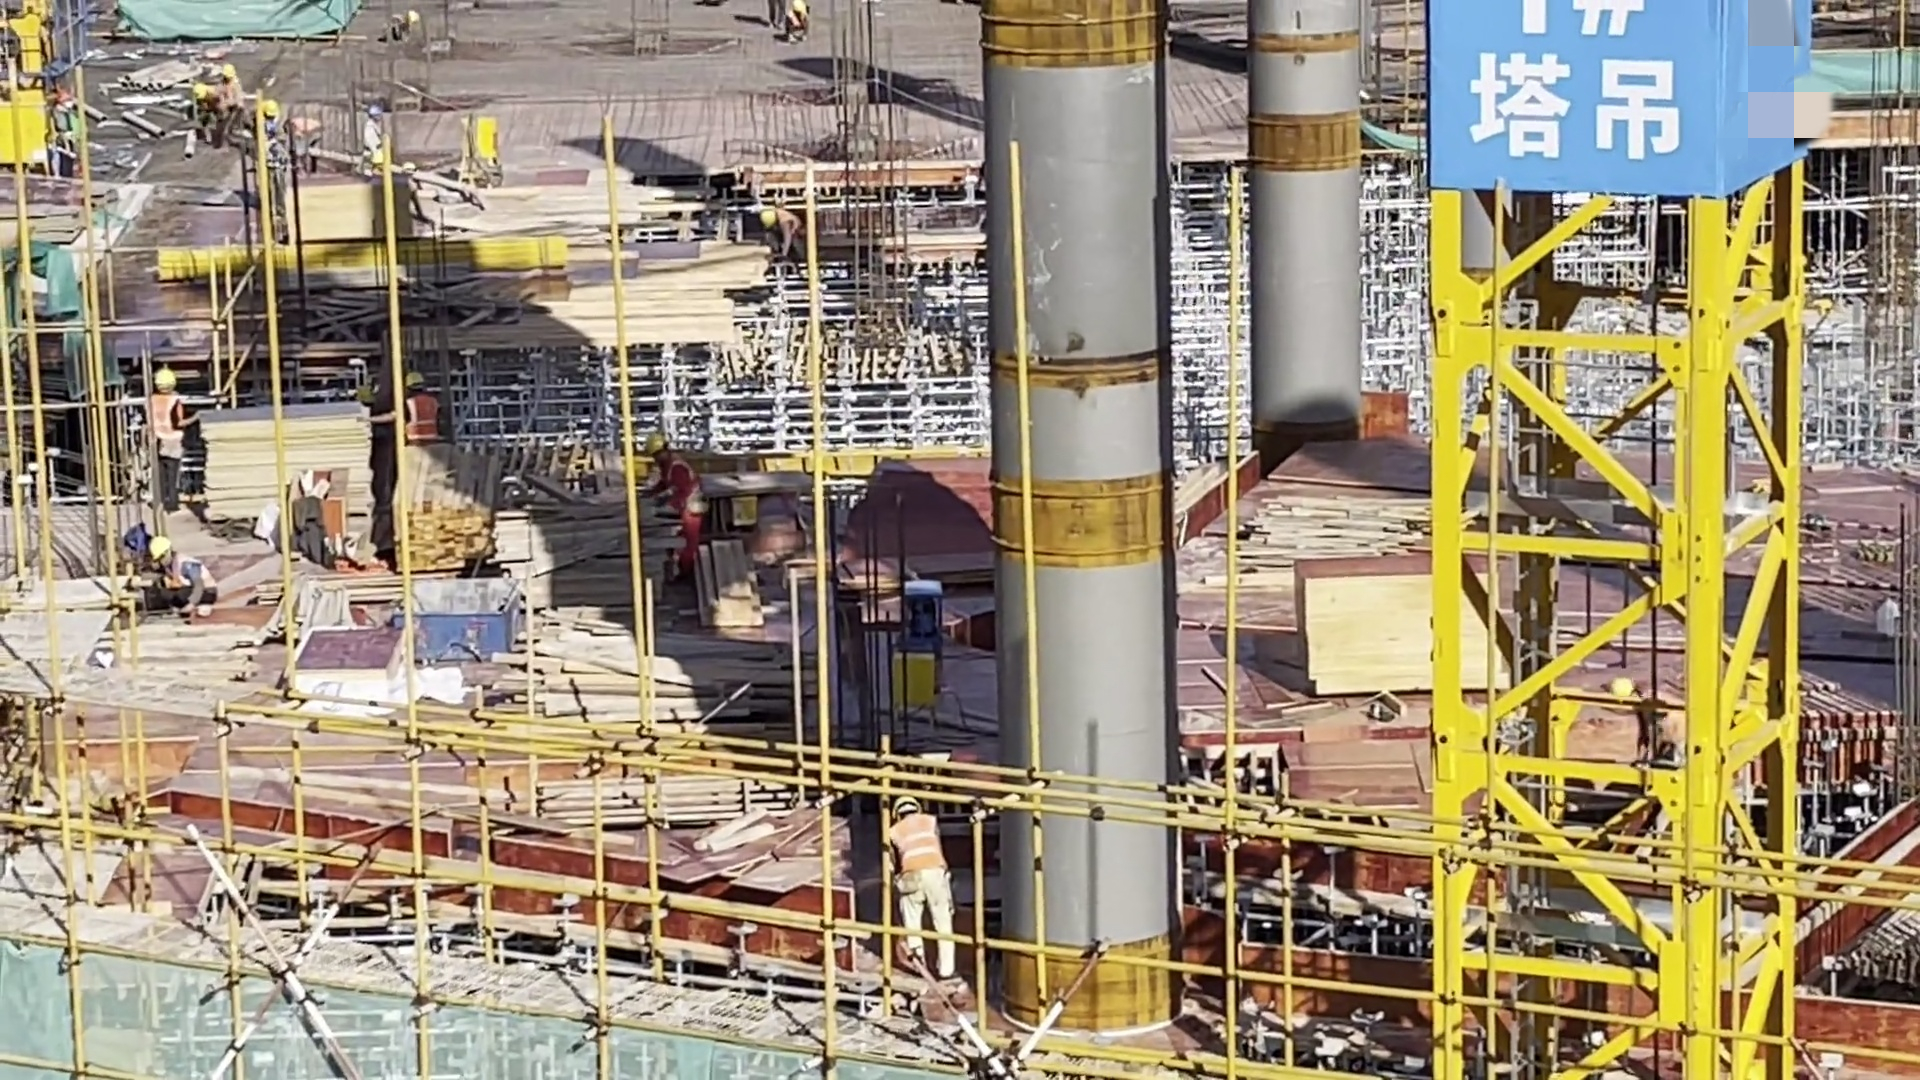helmet: (146, 533, 173, 561), (1613, 675, 1635, 705), (885, 795, 917, 815), (154, 366, 176, 394), (644, 433, 669, 455), (403, 372, 426, 393), (762, 206, 781, 225), (265, 99, 283, 117), (192, 78, 208, 99), (368, 102, 384, 118), (223, 63, 236, 79), (792, 1, 805, 13)
person: (873, 791, 958, 968), (644, 433, 731, 581), (1616, 673, 1696, 781), (148, 360, 191, 486), (144, 538, 209, 598), (762, 199, 812, 263), (191, 65, 224, 150), (409, 376, 453, 438), (778, 1, 819, 42), (261, 98, 289, 146), (221, 60, 239, 123), (364, 111, 382, 161)
vest: (1639, 697, 1694, 767), (904, 815, 943, 886), (161, 551, 212, 592), (151, 396, 190, 447), (401, 397, 443, 442), (675, 469, 717, 512), (768, 209, 802, 248), (783, 11, 809, 34), (363, 120, 378, 156), (258, 116, 278, 142), (224, 85, 237, 104), (210, 87, 215, 118)
